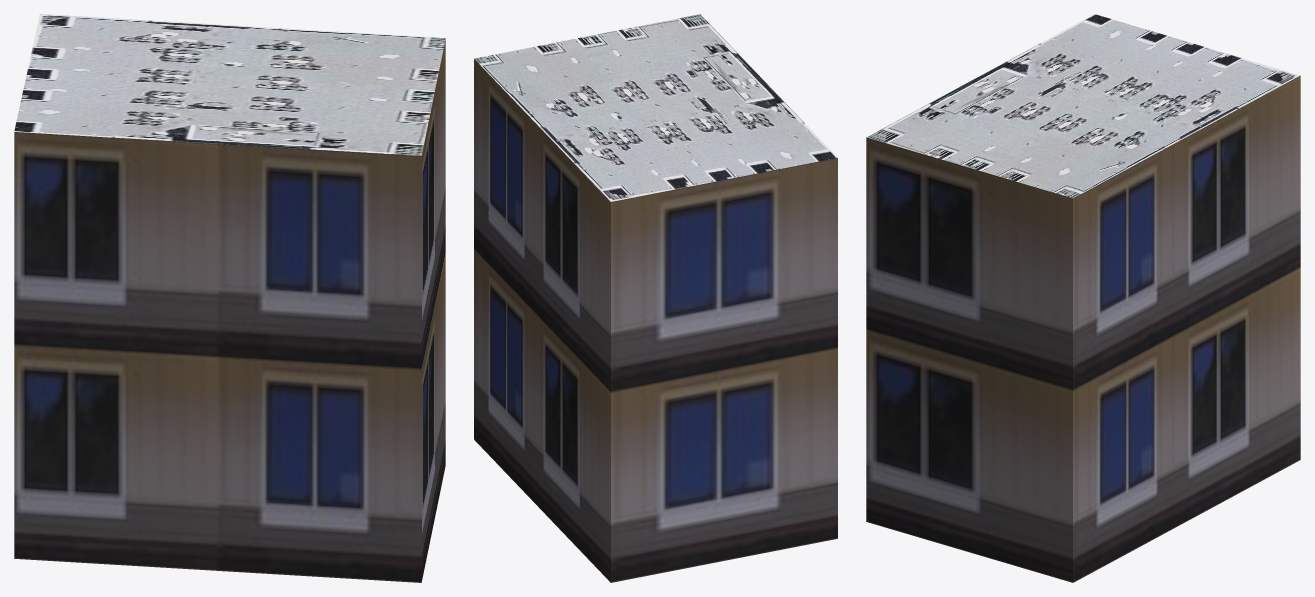
File: ResTex__2208.fbx
The picture shows the model from 3 angles, left to right: view 1: azimuth 30°, elevation 25°; view 2: azimuth 150°, elevation 25°; view 3: azimuth 270°, elevation 25°; orthographic projection. The views are drawn at different scales.
Visible parts, largest first — view 1: CityEngineMaterial_5_m, CityEngineMaterial_8_m; view 2: CityEngineMaterial_5_m, CityEngineMaterial_8_m; view 3: CityEngineMaterial_5_m, CityEngineMaterial_8_m.
Boxes of the visible parts, x1,y1,x2,y2 form: CityEngineMaterial_5_m: (14, 40, 445, 582); CityEngineMaterial_8_m: (14, 14, 445, 155); CityEngineMaterial_5_m: (474, 59, 837, 582); CityEngineMaterial_8_m: (474, 14, 837, 201); CityEngineMaterial_5_m: (866, 75, 1300, 582); CityEngineMaterial_8_m: (867, 14, 1299, 198).
Size of the model in its own units: 6.17 by 6 by 6.14.
2 materials, 2 textured.
